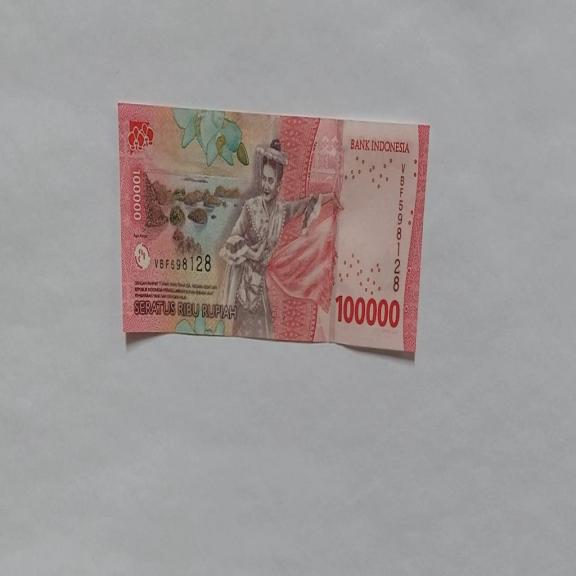Kertas: (117, 102, 430, 358), (335, 292, 400, 330)
